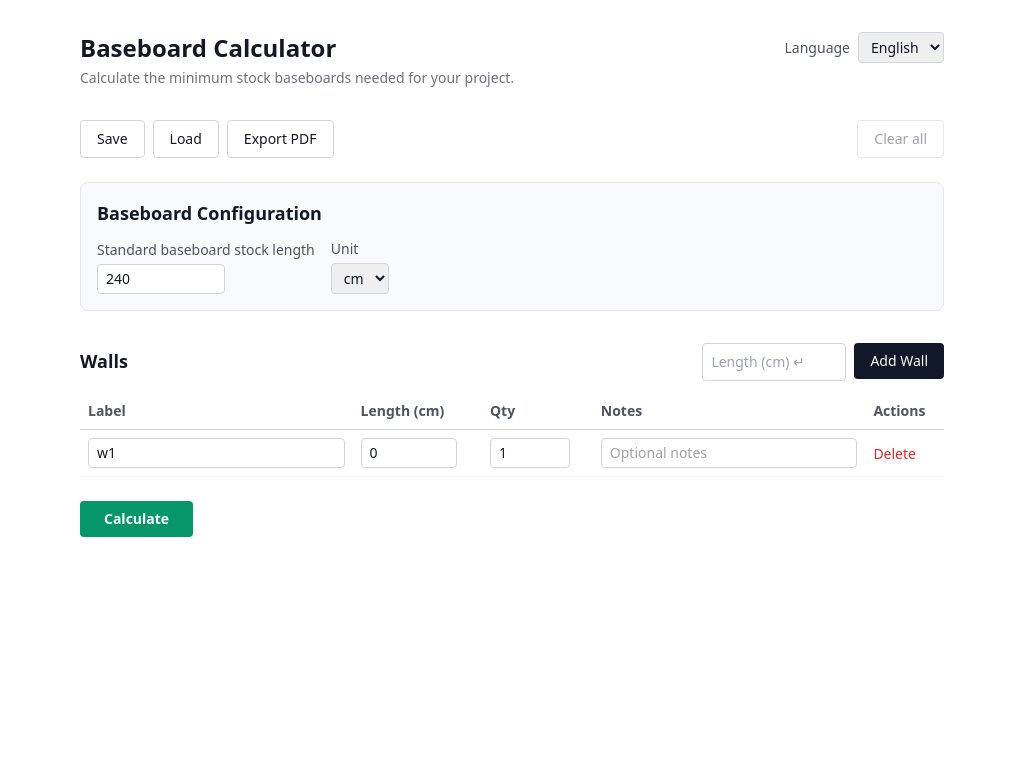
Test case: App › notes offcut reuse on both the source and the receiving wall
The image size is (1024, 762).
Type "120" into the field with test id "quick-add-input" at (774, 362), box [702,343,846,381]
Then press Enter
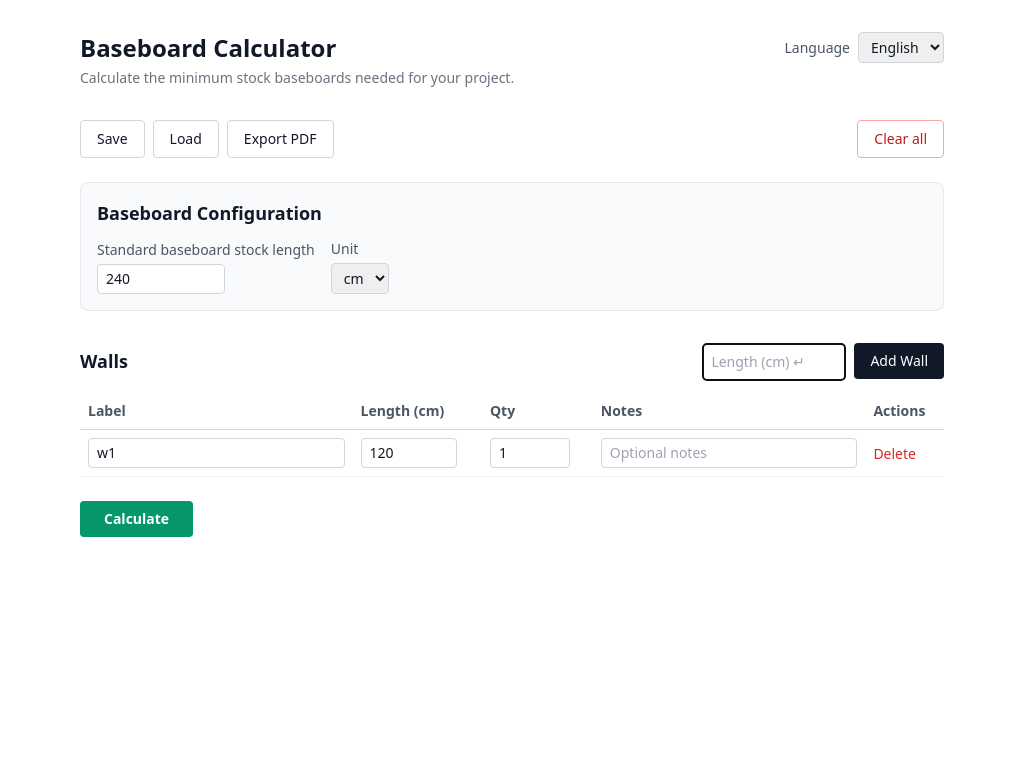
Type "80" into the field with test id "quick-add-input" at (774, 362), box [702,343,846,381]
Then press Enter
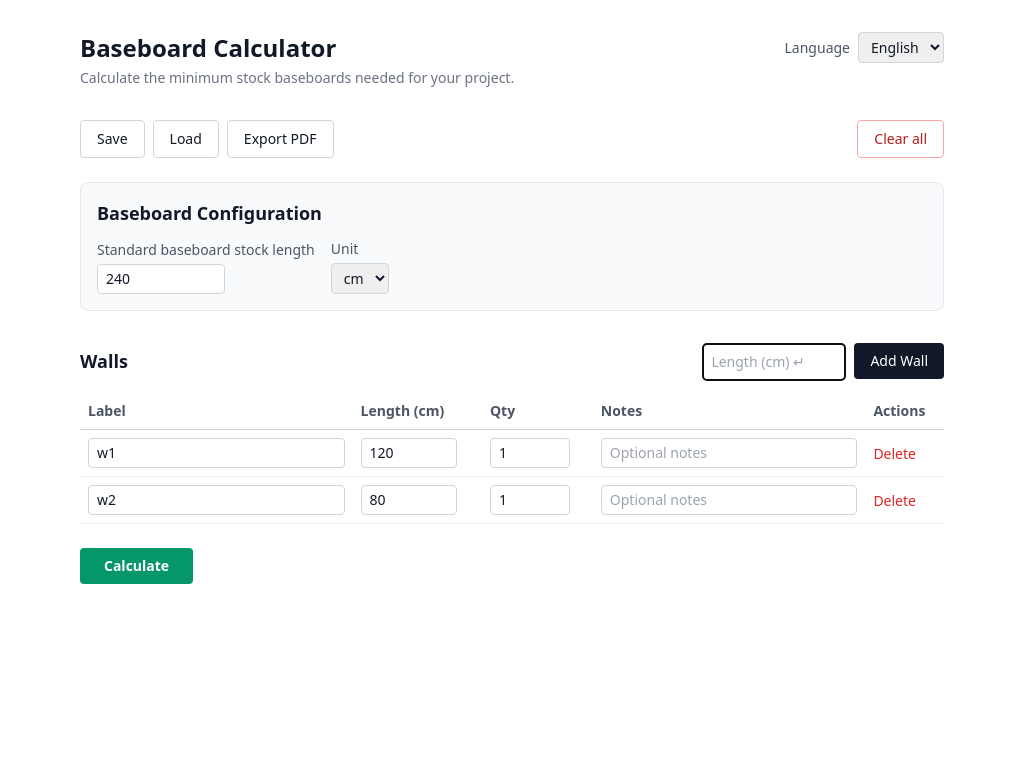
Type "200" into the field with test id "quick-add-input" at (774, 362), box [702,343,846,381]
Then press Enter
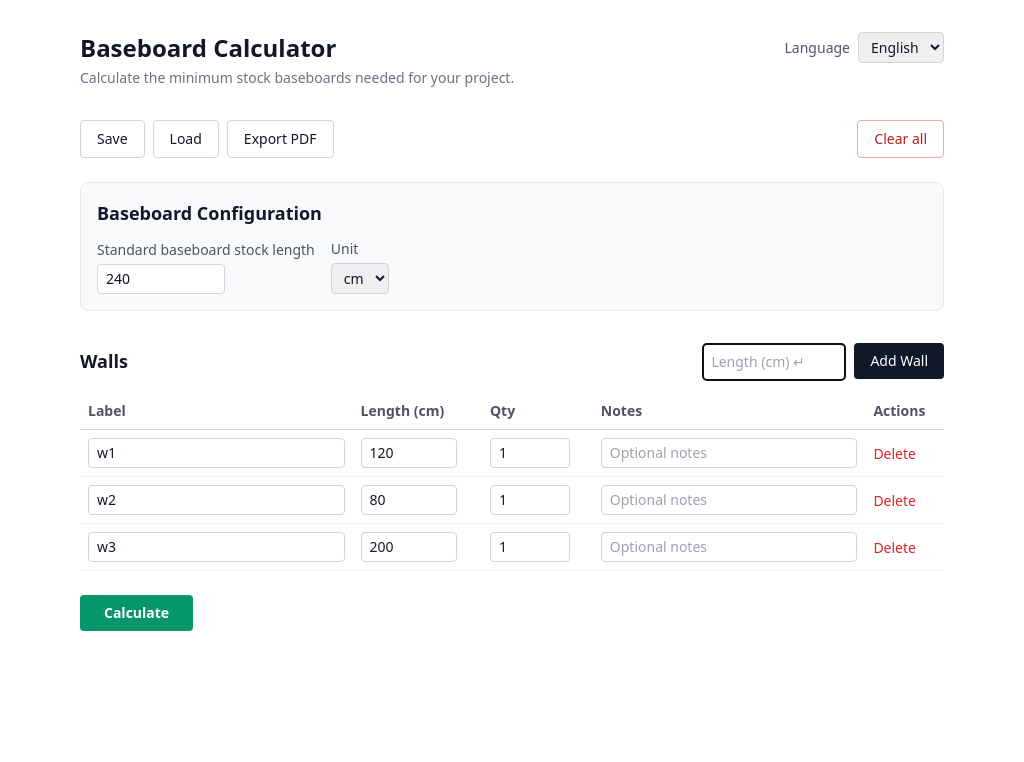
Click the button with test id "calculate-button" at (137, 613), box [80,595,193,631]
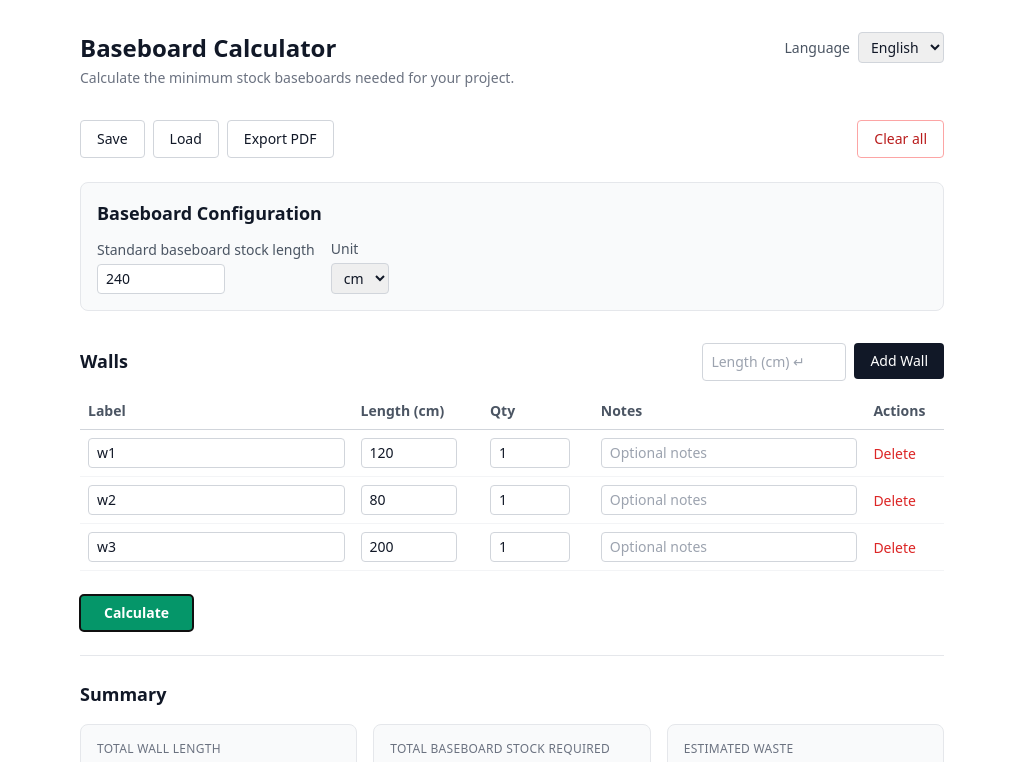
Select "Polski" in the dropdown labelled "Language" at (901, 48), box [858,32,944,63]
(page scrolled)
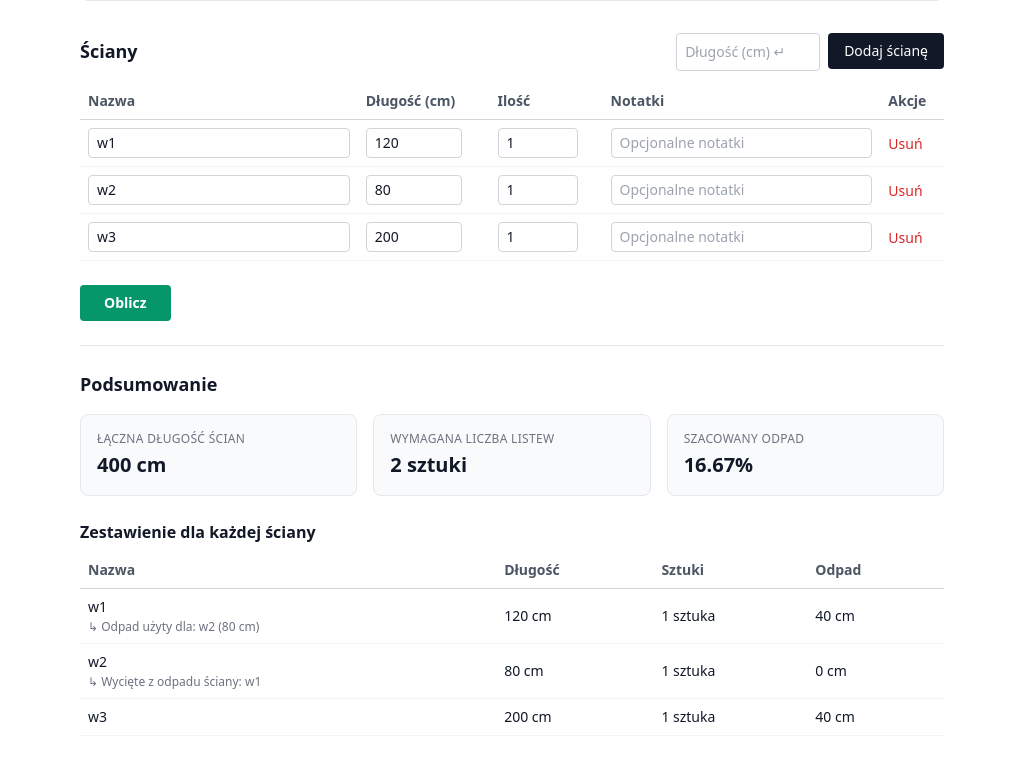
Now the element with test id "^offcut-given-" shows "Odpad użyty dla: w2 (80 cm)", box [101,618,259,635]
Now the element with test id "^offcut-received-" shows "Wycięte z odpadu ściany: w1", box [101,673,261,690]
